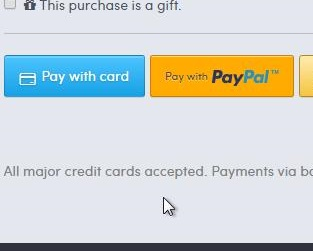cursor: (161, 195, 176, 217)
